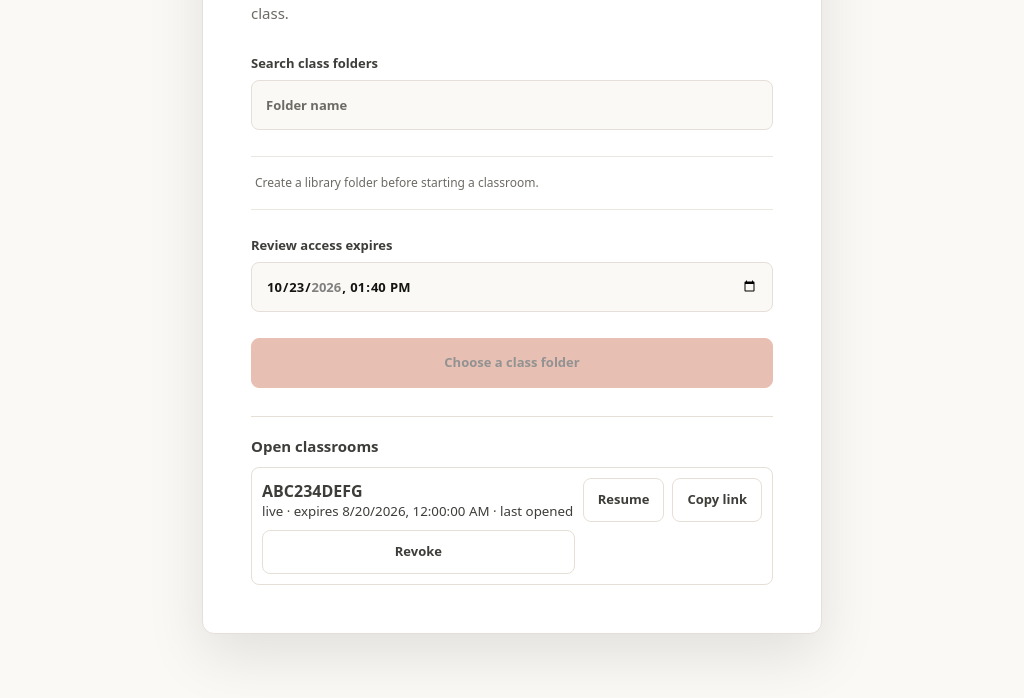
Test case: teacher paginated roster › renders one bounded page, loads the next page, and searches server-side
This screenshot has width=1024, height=698.
(page scrolled)
Click the button with aria-label "Resume classroom ABC234DEFG".
click(624, 500)  # box [583,478,664,522]
(page scrolled)
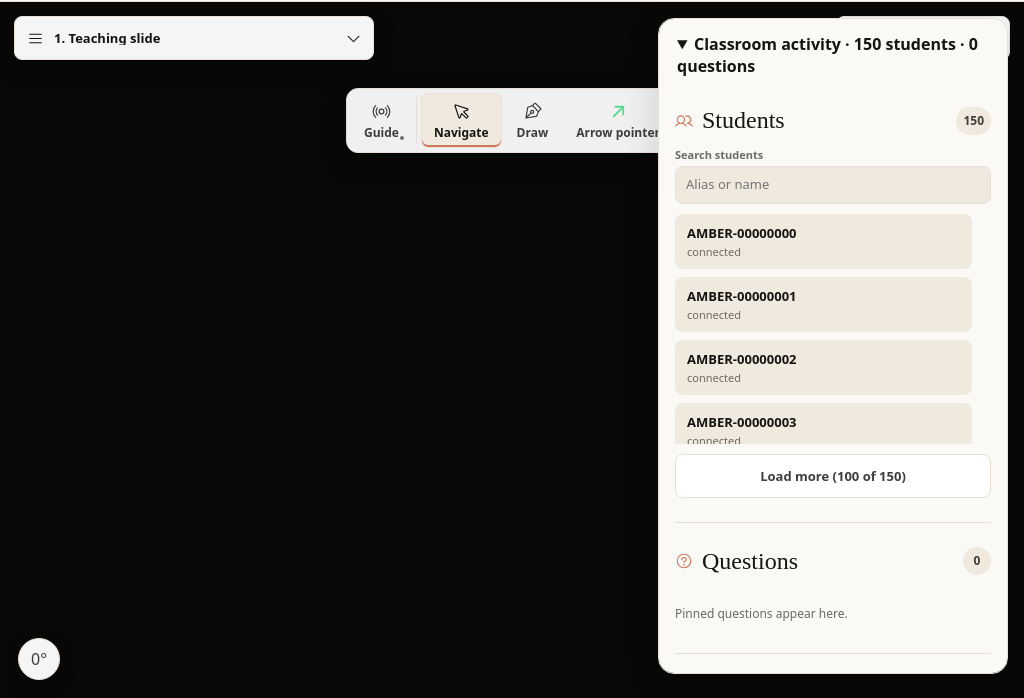
Now the text named "150 students" is shown, box [956,107,991,135]
Click the button "Load more (100 of 150)".
click(833, 476)  # box [675,454,991,498]
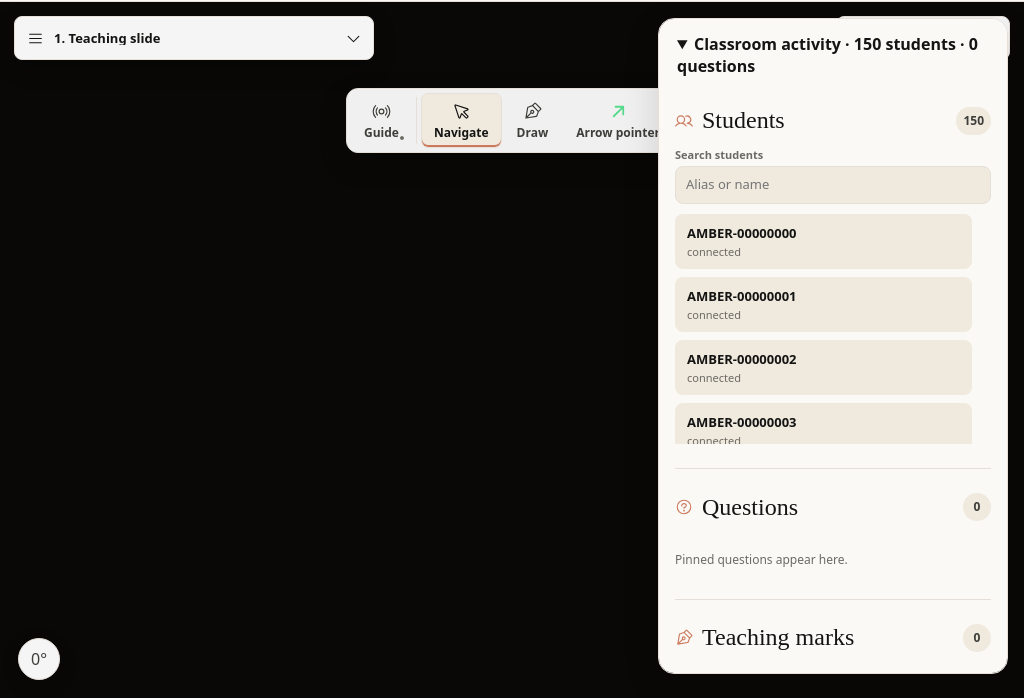
Type "renal" into the search field labelled "Search students".
click(833, 185); type("renal")  # box [675,166,991,204]
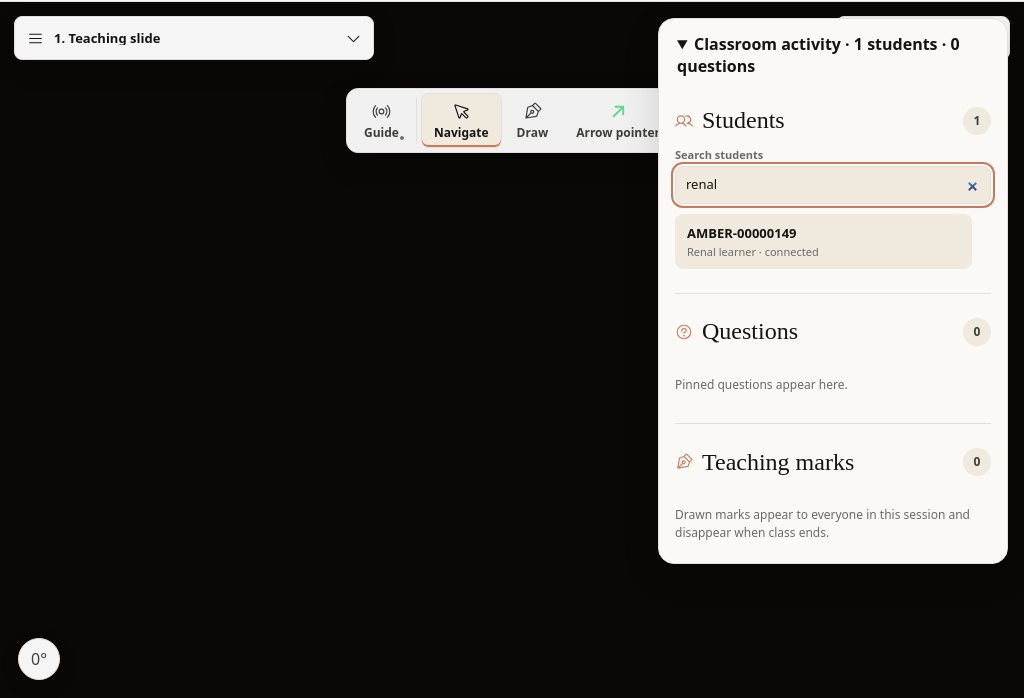
Now the number of list items is 1, box [675,214,972,269]
Now the text "Renal learner · connected" is shown, box [687,244,819,259]
